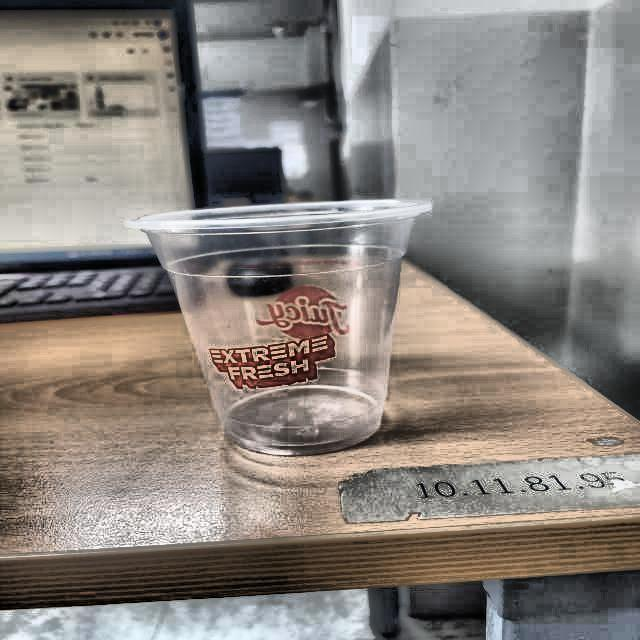plastic cup: (128, 198, 436, 457)
